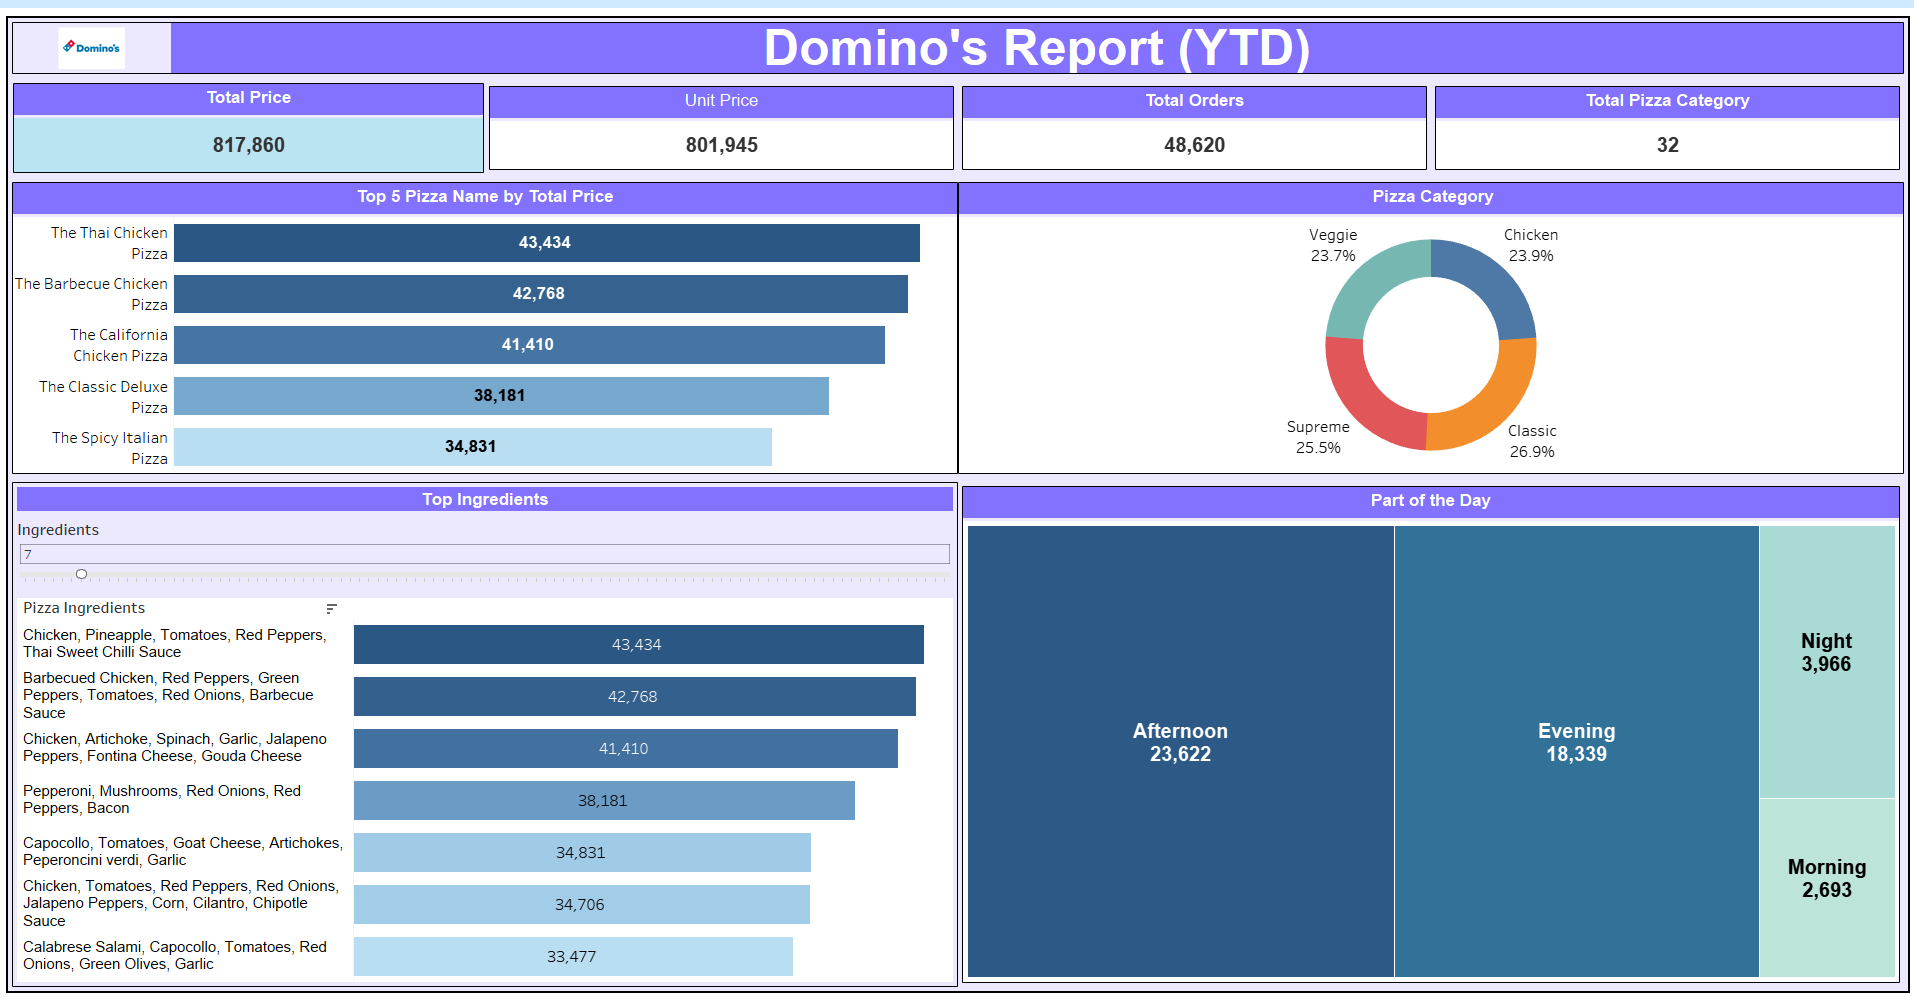

The dashboard page shown, as its layout file describes it:
{"tool":"tableau","page":{"name":"Pizza","canvas":[1000,1000],"units":"permille","ordinal":0},"visuals":[{"type":"image","param":"C:/Users/Md202/OneDrive/Documents/Desktop/Pollution Control Equipment Design/dom","box":[9.1,18.7,95.4,62.4]},{"type":"text","box":[104.4,18.7,886.5,62.4]},{"type":"worksheet","title":"Total Price","mark":"Automatic","box":[8.4,92.4,246.2,114.9]},{"type":"worksheet","title":"Unit Price","mark":"Automatic","box":[254.7,92.4,245.6,114.9]},{"type":"worksheet","title":"Total Orders","mark":"Automatic","box":[500.3,92.4,245.6,114.9]},{"type":"worksheet","title":"Total Pizza Category","mark":"Automatic","box":[745.9,92.4,245.6,114.9]},{"type":"worksheet","title":"Top 5 Pizza Name by Total Price","mark":"Automatic","rows":["pizza_name"],"cols":["total_price"],"box":[8.4,217.2,491.9,364.5]},{"type":"worksheet","title":" Pizza Category","mark":"Pie","rows":["Calculation_480759313320611843","Calculation_480759313320611843"],"box":[500.3,217.2,491.2,364.5]},{"type":"worksheet","title":"Part of the Day","mark":"Automatic","box":[500.3,591.8,491.2,390.8]},{"type":"text","box":[9.1,593,490.7,40]},{"type":"parameter","param":"[Parameters].[Parameter 3]","box":[9.1,633,490.7,98.6]},{"type":"worksheet","title":"Top Ingredients","mark":"Automatic","rows":["pizza_ingredients"],"cols":["total_price"],"box":[9.1,731.6,490.7,249.7]}]}

Visuals, with their boxes on the dashboard's canvas, which has no fixed pixel size, in thousandths of its width and height (x1, y1, x2, y2). These are canvas units, not pixel positions in the 1914x997 screenshot, which may show the page scaled, cropped or inside an application window:
image: bbox(9, 19, 104, 81)
text: bbox(104, 19, 991, 81)
"Total Price" worksheet: bbox(8, 92, 255, 207)
"Unit Price" worksheet: bbox(255, 92, 500, 207)
"Total Orders" worksheet: bbox(500, 92, 746, 207)
"Total Pizza Category" worksheet: bbox(746, 92, 992, 207)
"Top 5 Pizza Name by Total Price" worksheet: bbox(8, 217, 500, 582)
" Pizza Category" worksheet (Pie marks): bbox(500, 217, 992, 582)
"Part of the Day" worksheet: bbox(500, 592, 992, 983)
text: bbox(9, 593, 500, 633)
parameter: bbox(9, 633, 500, 732)
"Top Ingredients" worksheet: bbox(9, 732, 500, 981)
